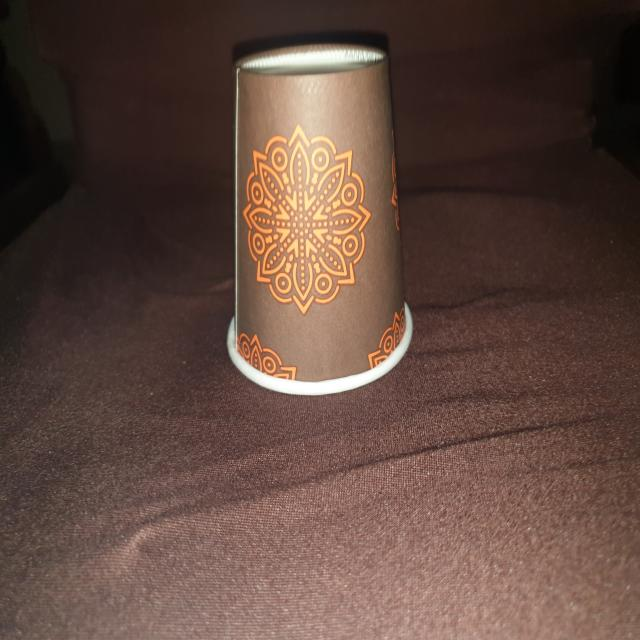cups: (210, 42, 419, 399)
